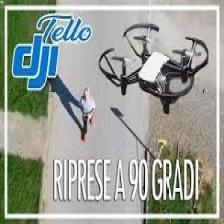drone: (100, 19, 211, 111)
